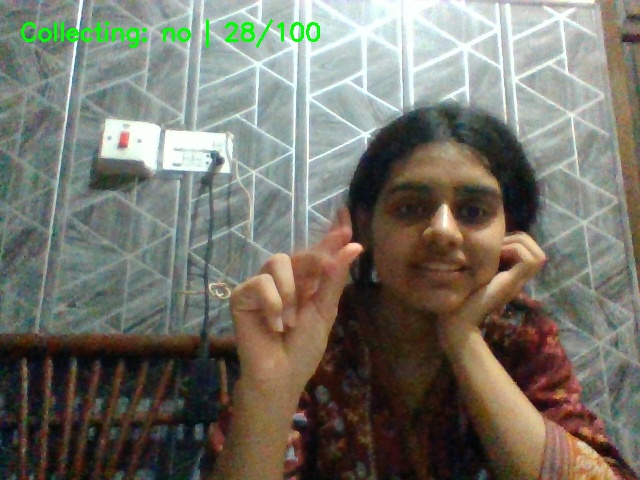no: (208, 188, 380, 433)
